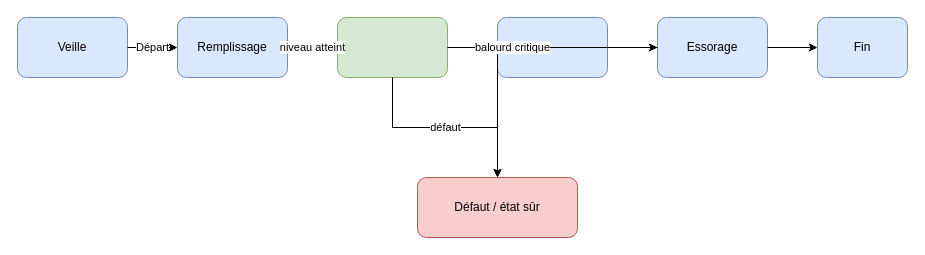
Some shapes in this 925 by 255 pixel diagram are drawn without their labels. Each missing label, with the centre of its shape:
Lavage: the point at 392,47
Rinçage: the point at 552,47
